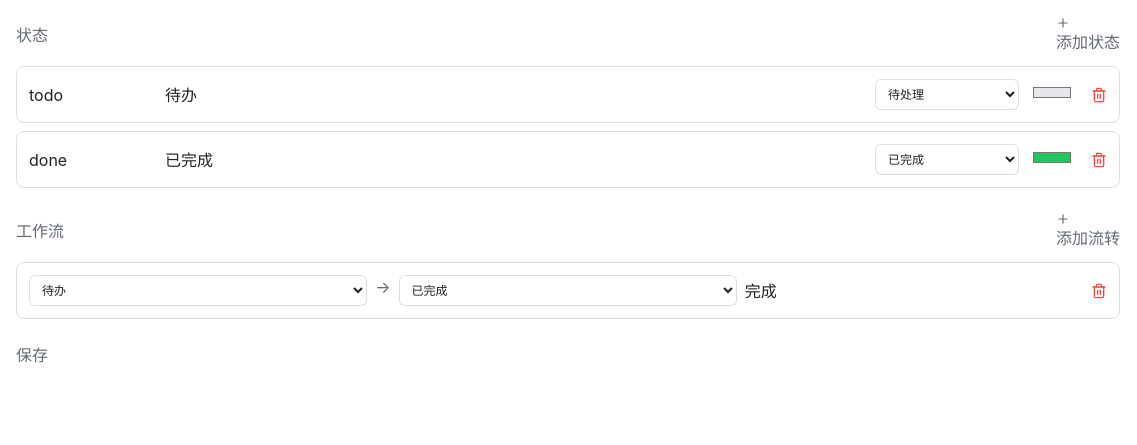
workflowEditor › adds a localized status with an editable category
This screenshot has width=1137, height=445.
Click the button with test id "project-workflow-add-status" at point(1088, 35), box [1056, 16, 1120, 54]
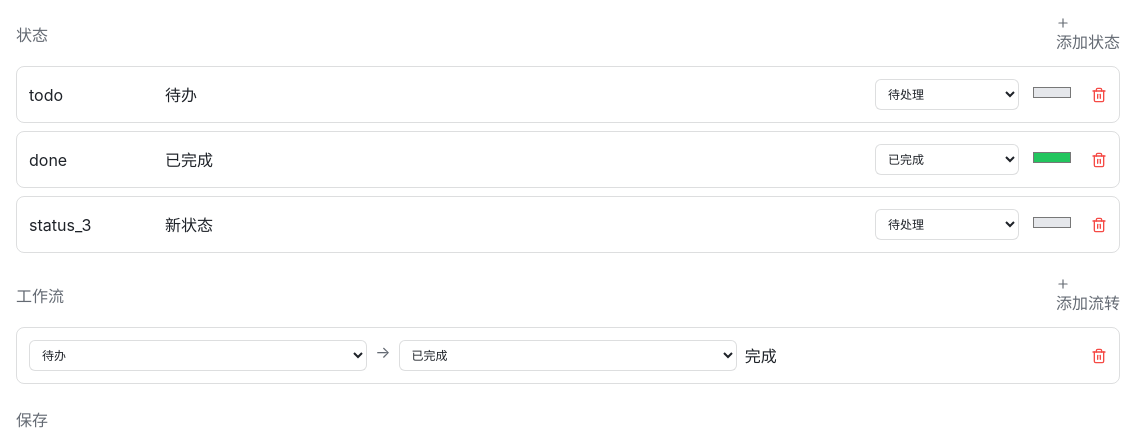
Expected: the number of dropdowns with test id "project-workflow-status-category" is 3, [875, 79, 1019, 110]; [875, 144, 1019, 175]; [875, 209, 1019, 240]
